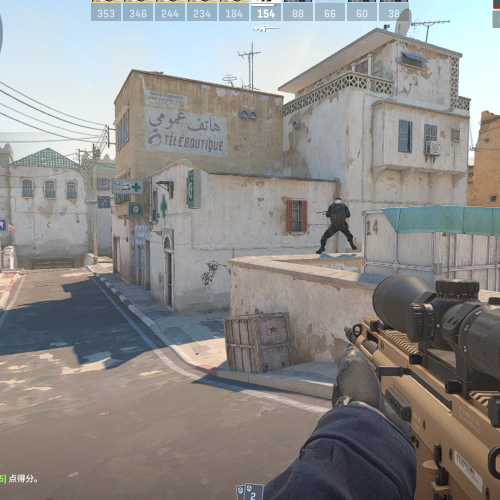ct_body: (316, 196, 357, 254)
ct_head: (333, 196, 344, 205)
